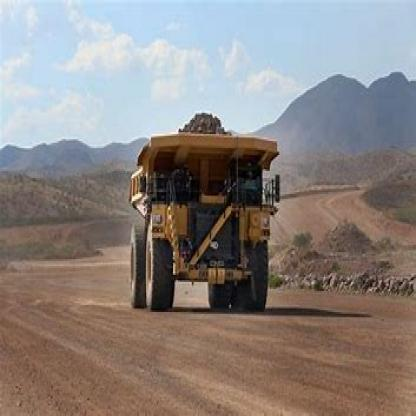dump_truck: (126, 111, 281, 330)
